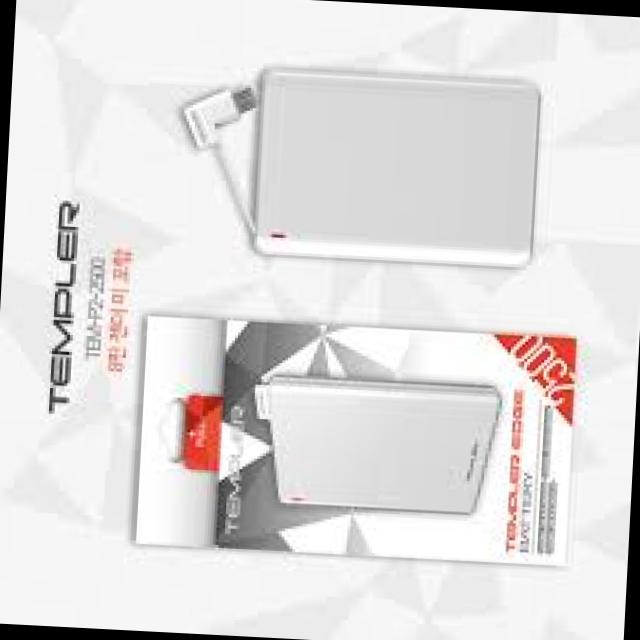portable-charger: (241, 51, 545, 272), (256, 364, 503, 520)
